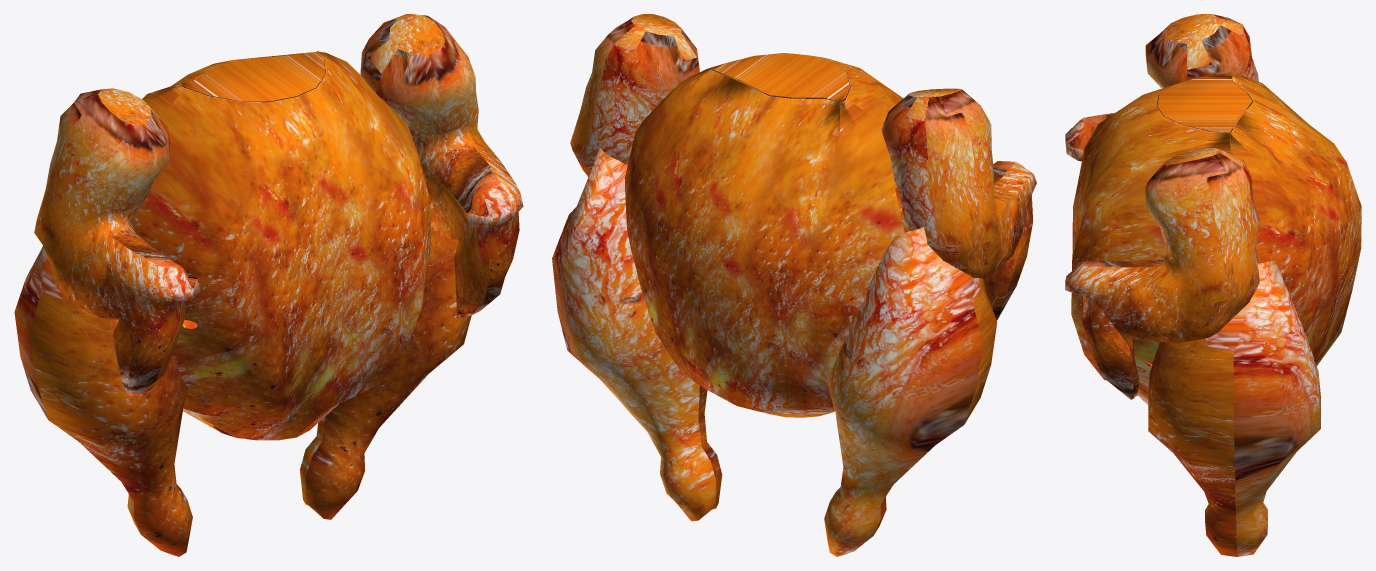
Rendered from TURKEY.FBX.
3 renders of one model, left to right at view 1: azimuth 30°, elevation 25°; view 2: azimuth 150°, elevation 25°; view 3: azimuth 270°, elevation 25°, orthographic. The views are drawn at different scales.
Visible parts, largest first — view 1: Cylinder001; view 2: Cylinder001; view 3: Cylinder001.
Part boxes in pixels (bbox=[...]): Cylinder001: bbox=[14, 14, 523, 556]; Cylinder001: bbox=[552, 14, 1036, 556]; Cylinder001: bbox=[1065, 14, 1361, 556].
Size of the model in its own units: 132 by 141 by 86.78.
Materials: 2 (2 with a texture image).
